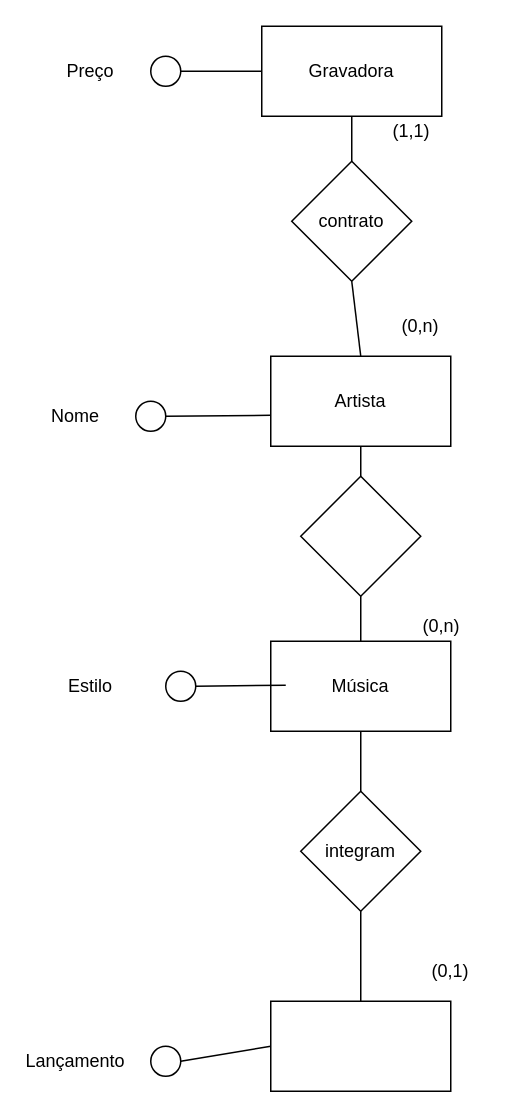
This 506x1118 diagram has some shape labels left out. The shapes that lost their labels are listed below. From the top down, each one's centre as x and y in pixels, then its label:
(360,535): compõe
(360,1045): álbum
